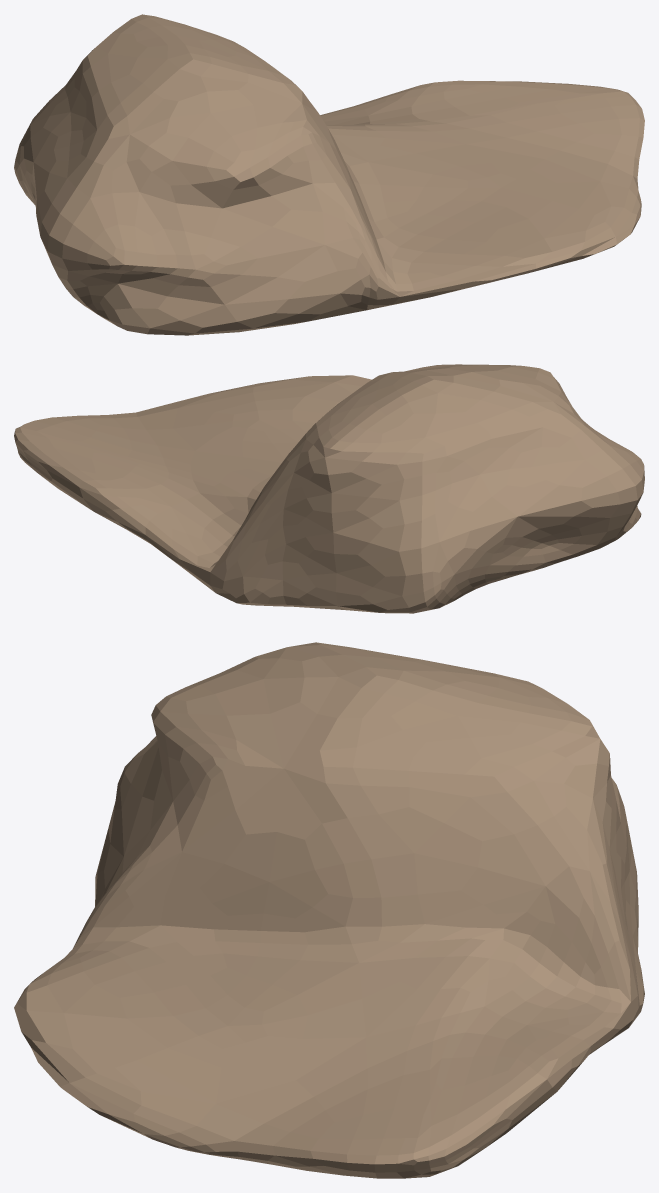
Rendered from shelf_smol.fbx.
3 renders of one model, top to bottom at view 1: azimuth 30°, elevation 25°; view 2: azimuth 150°, elevation 25°; view 3: azimuth 270°, elevation 25°, orthographic. The views are drawn at different scales.
Visible parts, largest first — view 1: Plane.001; view 2: Plane.001; view 3: Plane.001.
Part boxes in pixels (box(x1,y1,x2,y2)): Plane.001: box(14, 14, 644, 335); Plane.001: box(14, 364, 644, 613); Plane.001: box(14, 642, 644, 1178).
Bounding box in the file's own units: 406 × 127 × 269.
